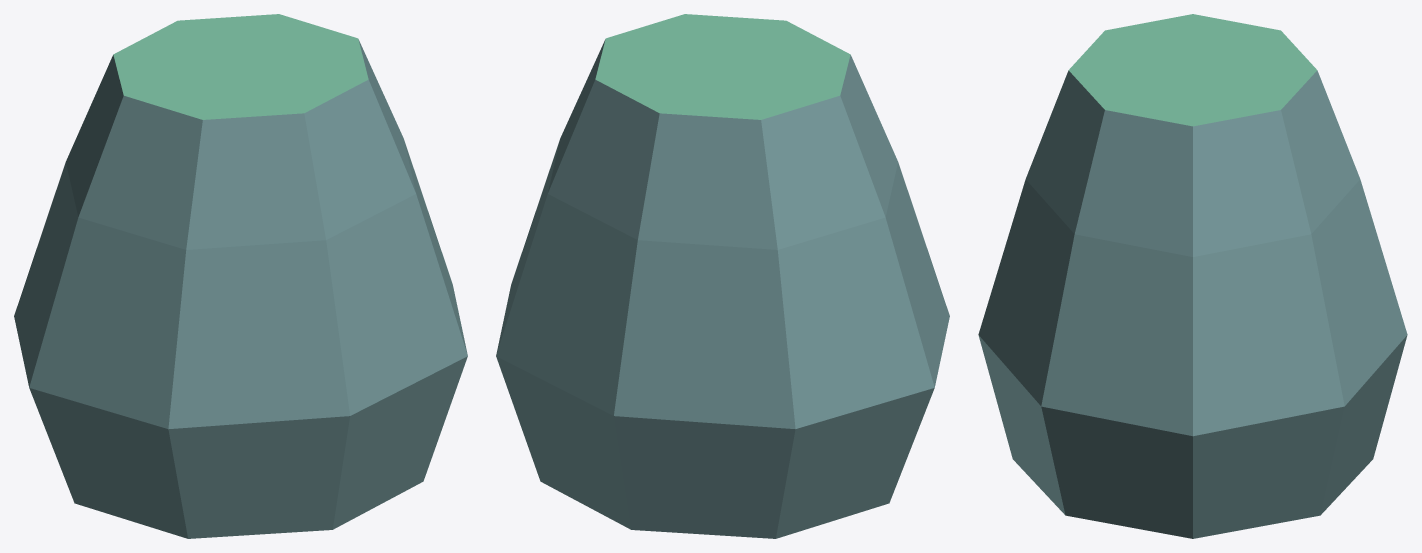
Rendered from npc_module_forearm_v01.glb.
3 views of the same model, side by side, from view 1: azimuth 30°, elevation 25°; view 2: azimuth 150°, elevation 25°; view 3: azimuth 270°, elevation 25° (orthographic).
Parts seen in each view (by area): view 1: GEO_npc_module_forearm_v01; view 2: GEO_npc_module_forearm_v01; view 3: GEO_npc_module_forearm_v01.
Part boxes in pixels (x1=…): GEO_npc_module_forearm_v01: x1=14, y1=14, x2=467, y2=538; GEO_npc_module_forearm_v01: x1=496, y1=14, x2=949, y2=538; GEO_npc_module_forearm_v01: x1=978, y1=14, x2=1407, y2=538.
Size of the model in its own units: 1.12 by 1 by 1.
